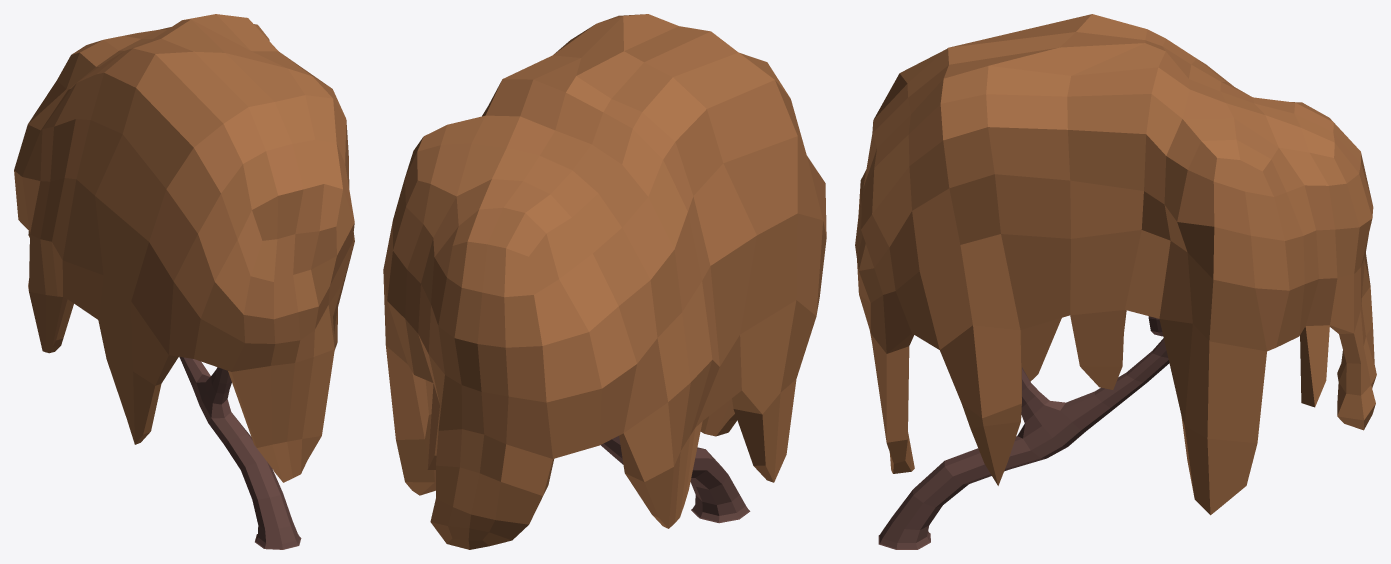
Rendered from quaternius-nature-pack-willow-autumn-2.glb.
The picture shows the model from 3 angles, left to right: view 1: azimuth 30°, elevation 25°; view 2: azimuth 150°, elevation 25°; view 3: azimuth 270°, elevation 25°; orthographic projection. The views are drawn at different scales.
Visible parts, largest first — view 1: Willow_Autumn_2; view 2: Willow_Autumn_2; view 3: Willow_Autumn_2.
Boxes of the visible parts, x1,y1,x2,y2 form: Willow_Autumn_2: [14, 14, 354, 549]; Willow_Autumn_2: [383, 14, 826, 549]; Willow_Autumn_2: [855, 14, 1376, 549].
Size of the model in its own units: 1.95 by 3.32 by 3.11.
